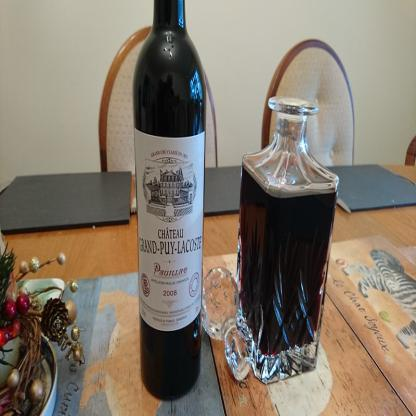drinking: (235, 96, 339, 385), (133, 0, 207, 401)
